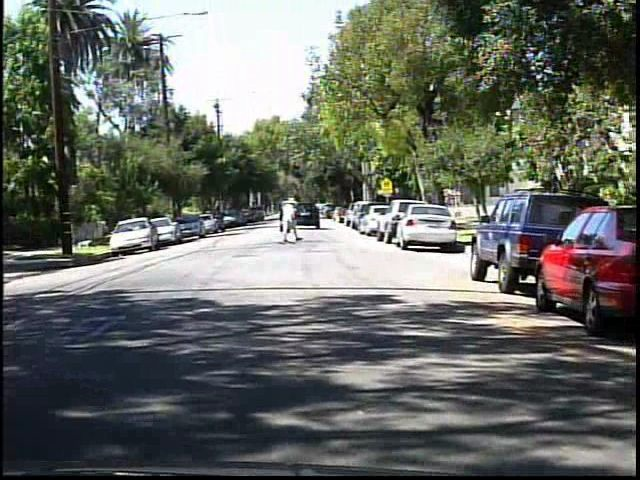person: (276, 194, 304, 244)
